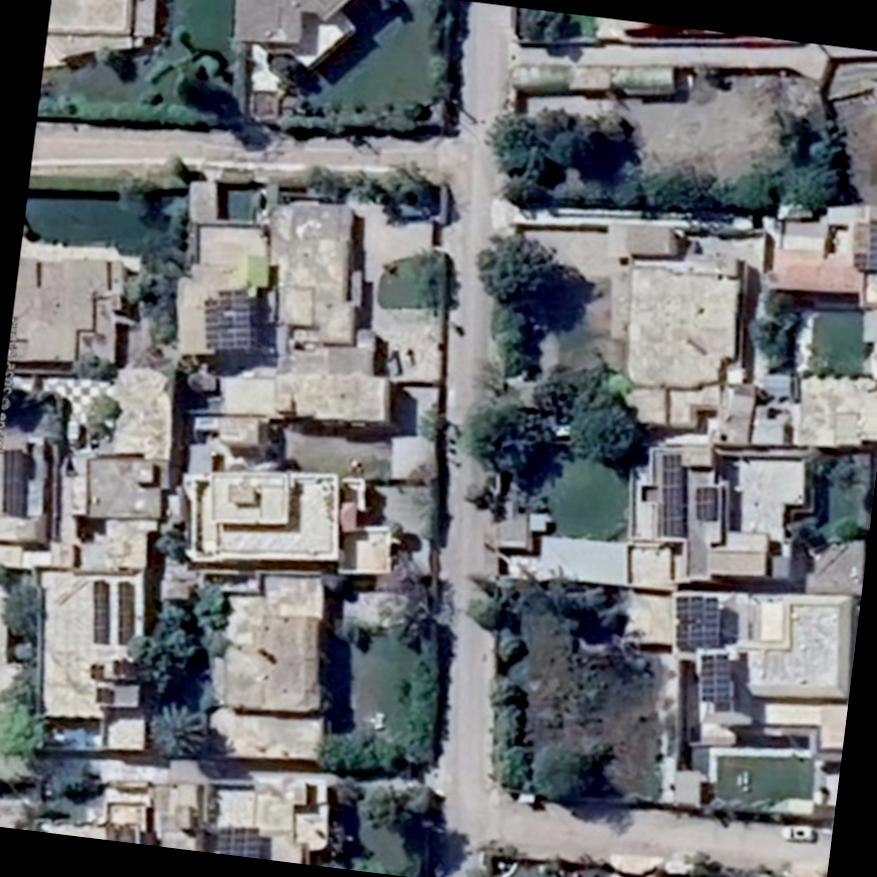Solarpanel: (206, 290, 251, 349), (660, 452, 686, 537), (676, 598, 717, 646), (698, 652, 729, 701), (3, 448, 23, 514), (218, 827, 259, 857), (116, 581, 133, 641), (93, 580, 107, 642), (697, 486, 716, 521), (870, 219, 877, 269)
